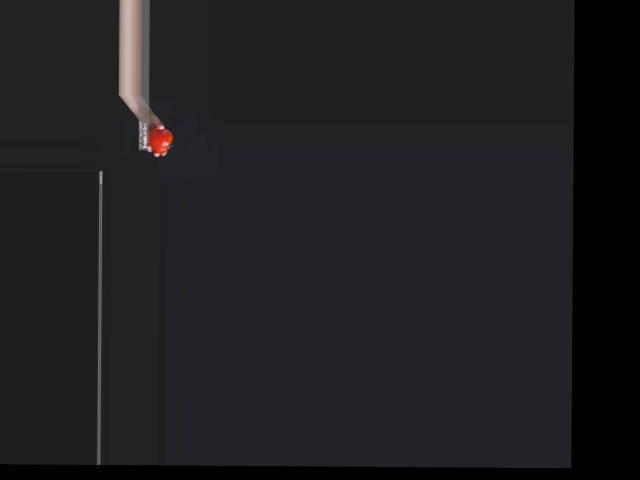tomato: (147, 128, 172, 153)
